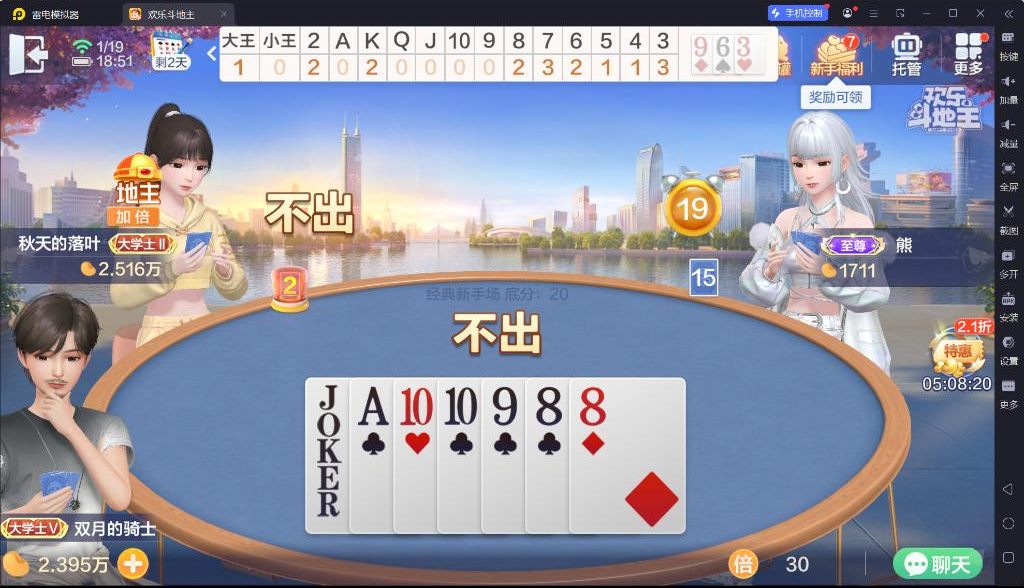A: (355, 384, 391, 427)
eight: (531, 384, 564, 427), (578, 385, 608, 427)
joker: (313, 383, 343, 466)
nine: (489, 384, 521, 427), (693, 36, 709, 58)
six: (716, 36, 731, 58)
ten: (443, 383, 479, 427), (398, 384, 434, 427)
three: (735, 35, 752, 58)
